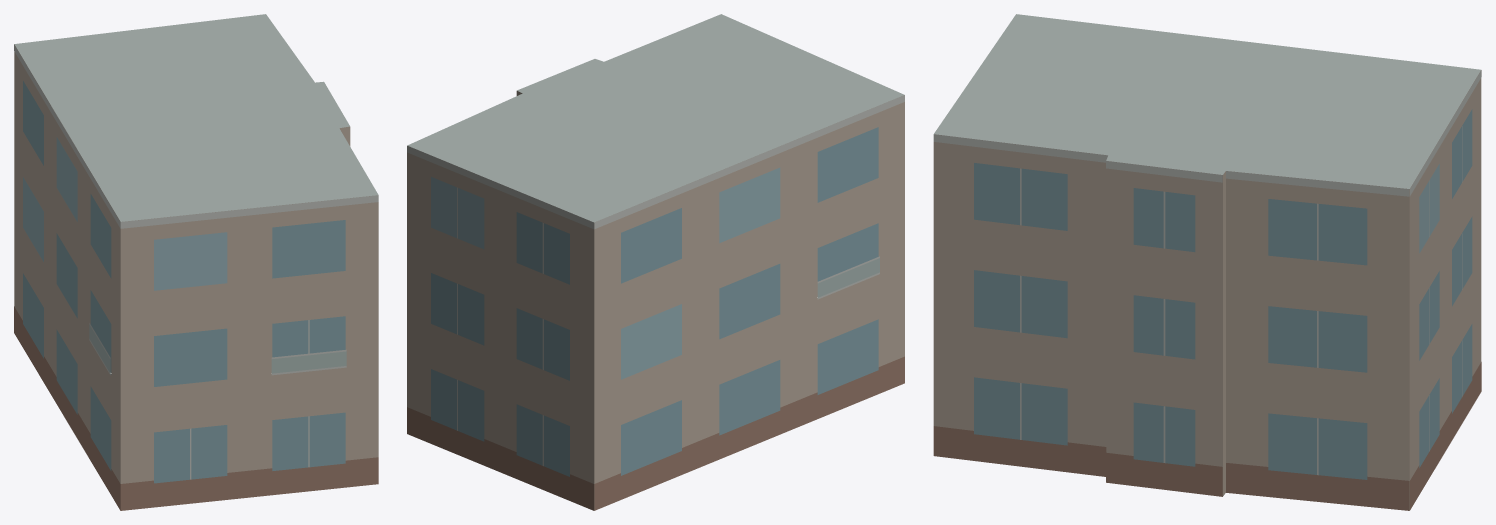
Rendered from survey-upis-32820089.glb.
3 renders of one model, left to right at view 1: azimuth 30°, elevation 25°; view 2: azimuth 150°, elevation 25°; view 3: azimuth 270°, elevation 25°, orthographic. The views are drawn at different scales.
Parts seen in each view (by area): view 1: survey-upis-32820089.tmp; view 2: survey-upis-32820089.tmp; view 3: survey-upis-32820089.tmp.
Part boxes in pixels (x1=…): survey-upis-32820089.tmp: x1=14, y1=14, x2=378, y2=510; survey-upis-32820089.tmp: x1=407, y1=14, x2=904, y2=510; survey-upis-32820089.tmp: x1=933, y1=14, x2=1481, y2=510.
Bounding box in the file's own units: 11.91 × 10.2 × 15.74.
